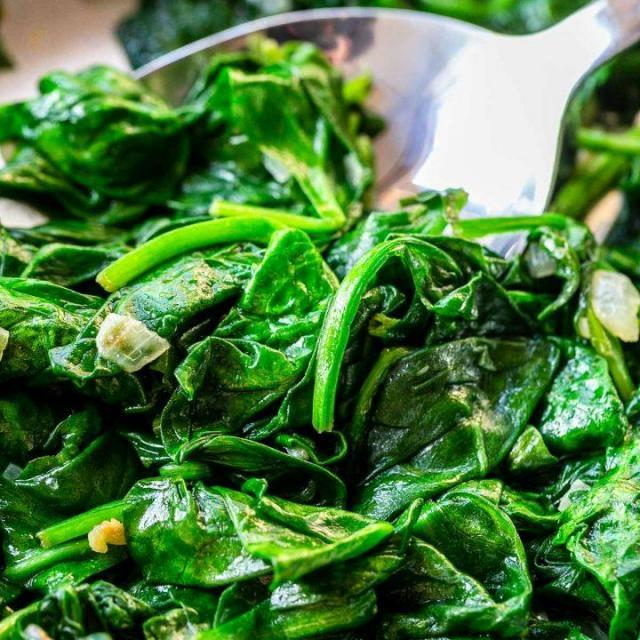Spinach: (1, 32, 627, 640)
